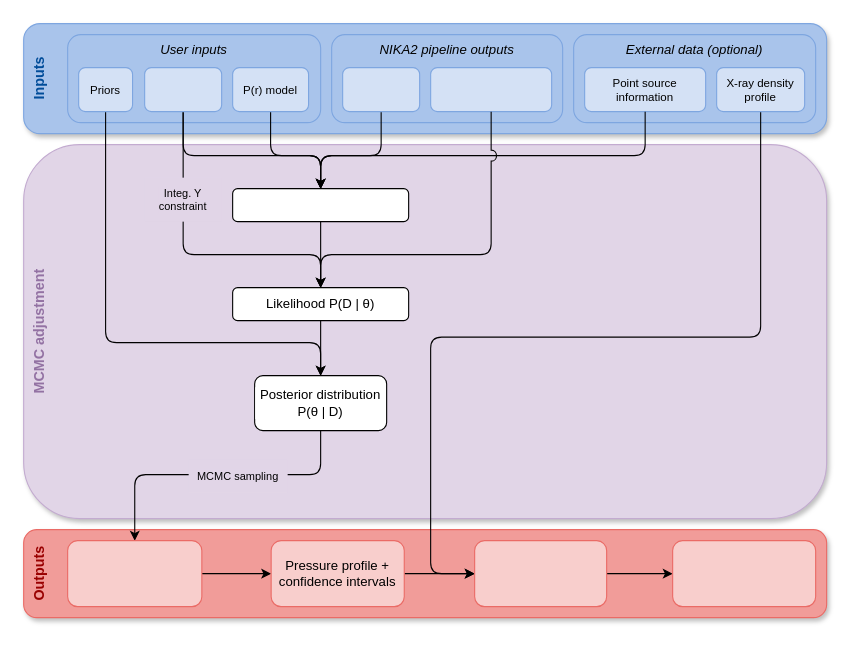
Some shapes in this 853 by 645 pixel diagram are drawn without their labels. Each missing label, with the centre of its shape:
(R 500 , Y 500 , M 500 ) confidence intervals: the point at 744,573
(T, K, M) profiles + confidence intervals: the point at 540,573
Cluster info (z, Y): the point at 183,89
Markov chains: posterior sampled in parameter space: the point at 134,573
NIKA2 map model: the point at 320,205
NIKA2 map, noise covariance: the point at 491,89
Transfer function: the point at 381,89
